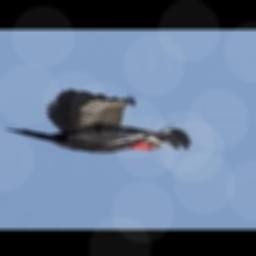Woodpecker: (3, 88, 190, 153)
